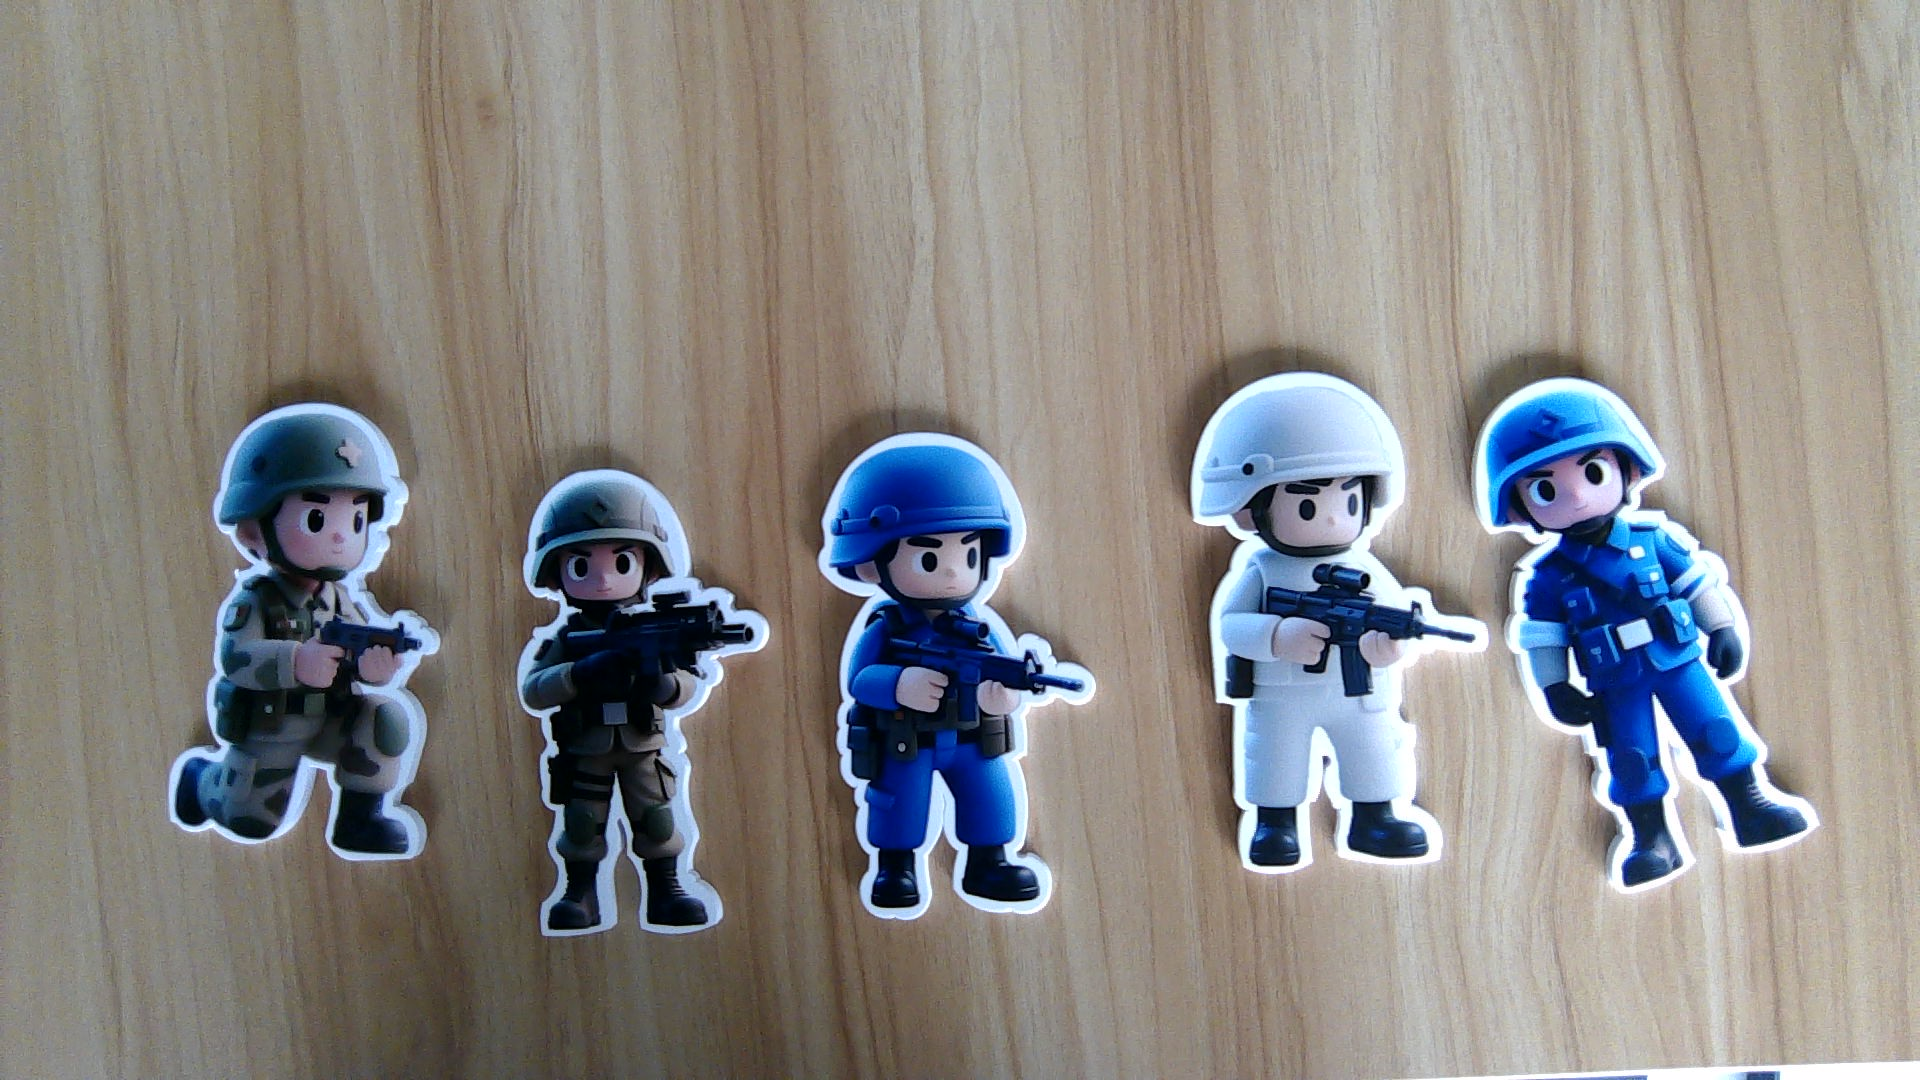人质: (1205, 560, 1484, 876)
友军: (512, 600, 767, 939), (161, 579, 443, 870)
敌人2: (1499, 541, 1836, 891), (827, 603, 1097, 920)
